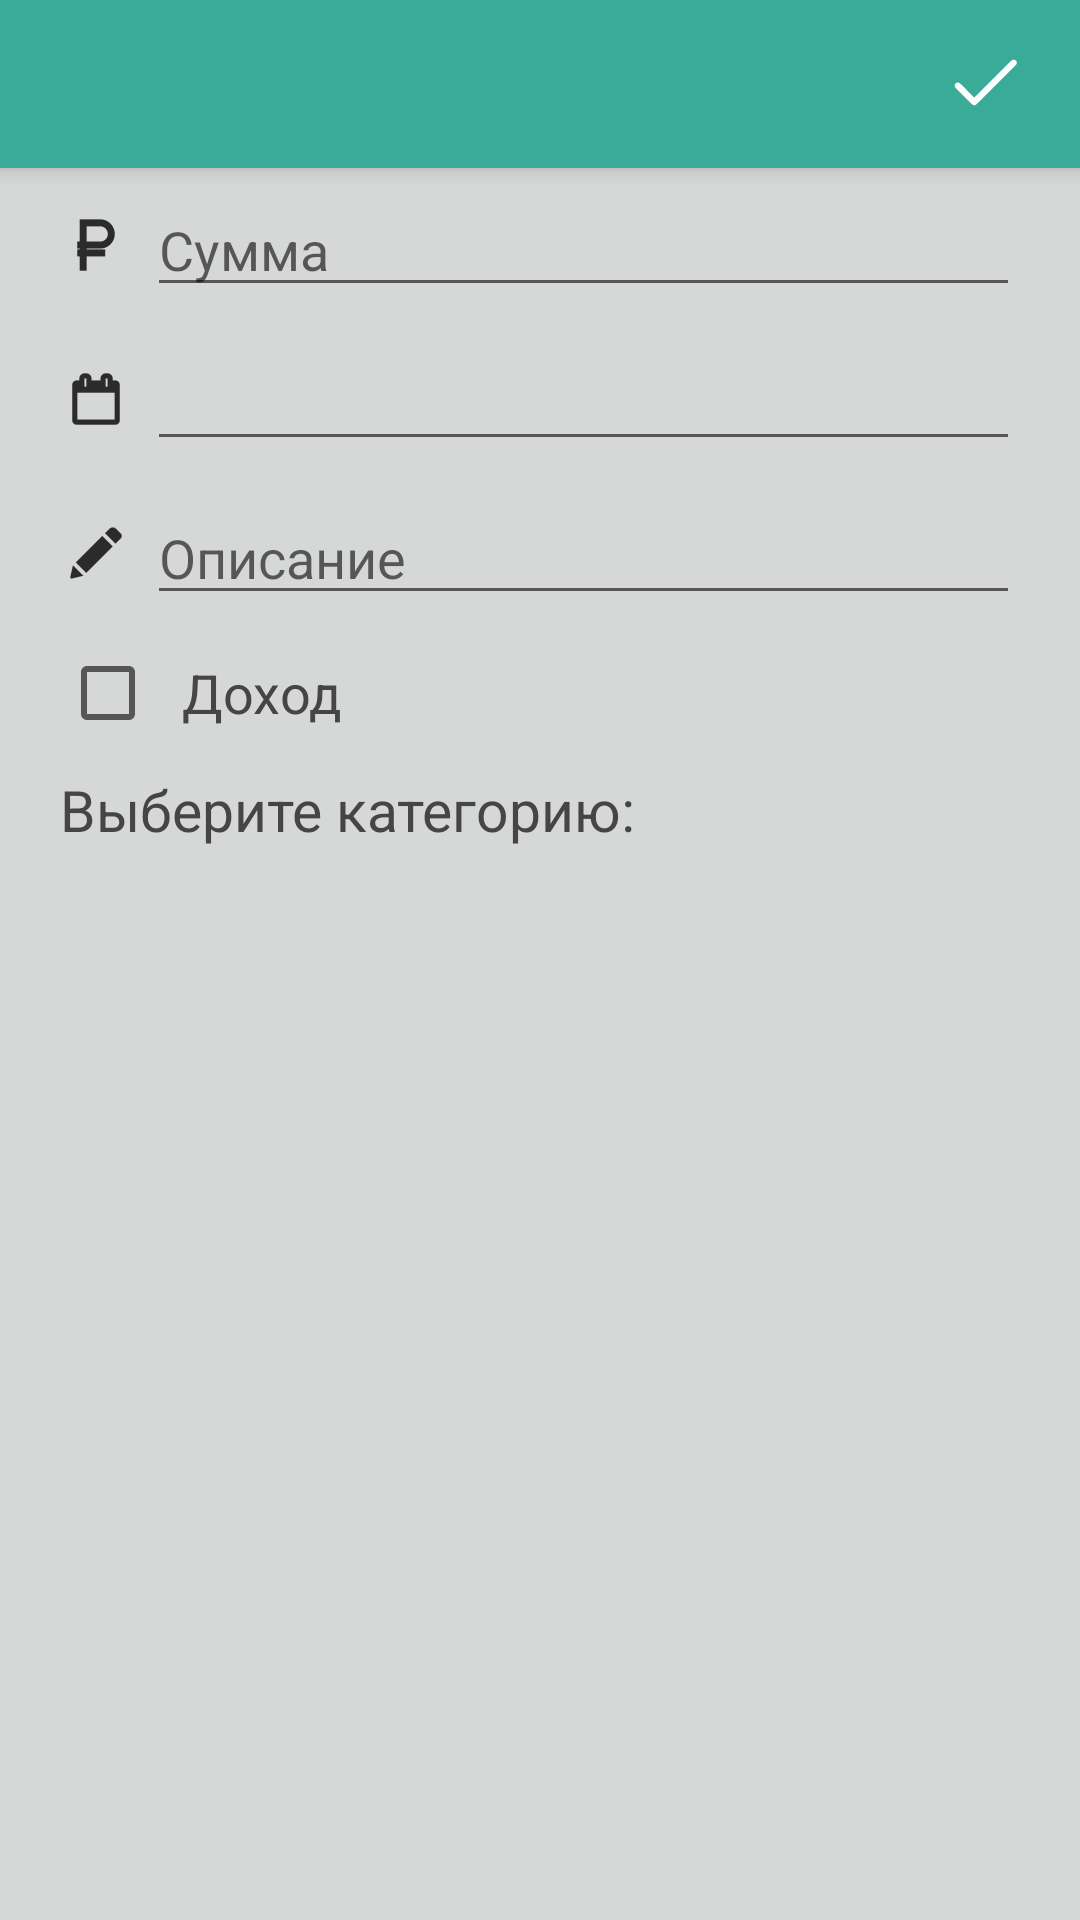

Screen size 1080px x 1920px. Icon name, then its box in pixels as bbox(x1, y1, x2, y2):
calendar: bbox(72, 373, 120, 425)
pencil: bbox(70, 527, 122, 579)
ruble: bbox(77, 219, 115, 271)
save: bbox(954, 59, 1017, 106)
